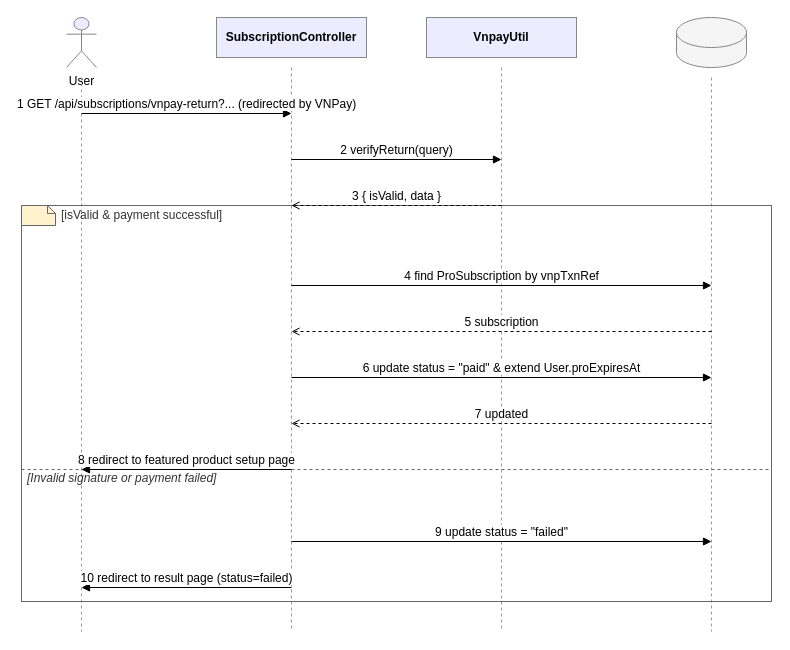
This 790x650 diagram has some shape labels left out. Here are the shapes that lost their labels. From the top down, the centre of each, then its label:
At (x=711, y=42): "MongoDB".
At (x=38, y=215): "alt".
